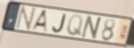8: (100, 17, 118, 42)
A: (30, 9, 49, 35)
J: (52, 13, 68, 34)
N: (14, 5, 38, 32), (80, 15, 104, 41)
Q: (66, 13, 84, 38)
